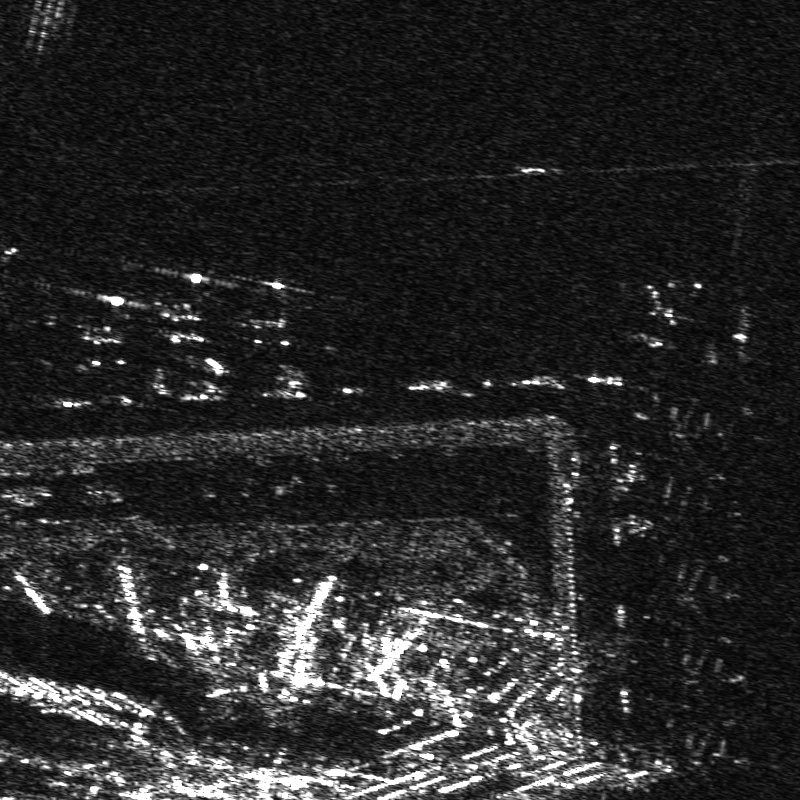A220: (648, 562, 749, 635), (662, 390, 744, 479), (137, 264, 213, 354), (675, 648, 758, 726), (686, 736, 783, 799)
A320/321: (620, 267, 710, 333)
Boeing737: (50, 283, 132, 357)
other: (230, 275, 301, 352)
